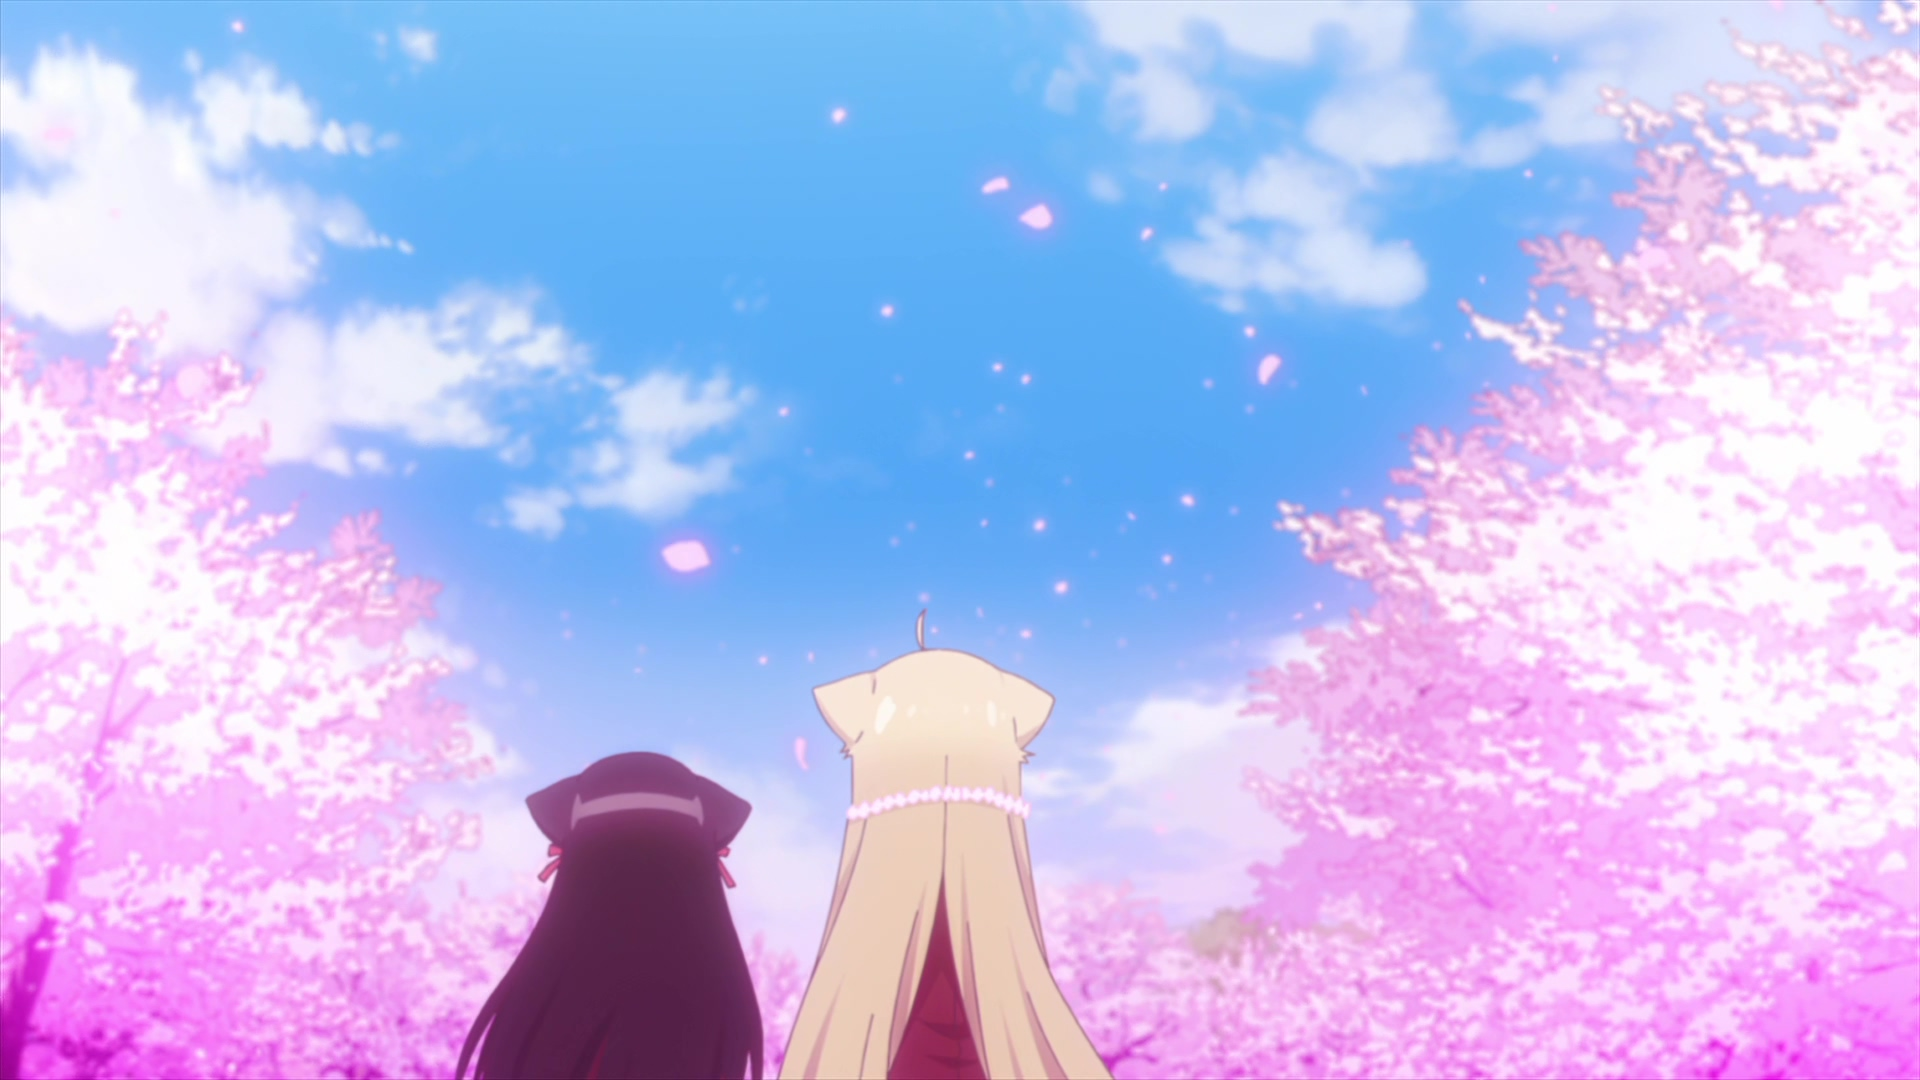柚: (774, 609, 1112, 1080)
樱: (458, 752, 764, 1080)
